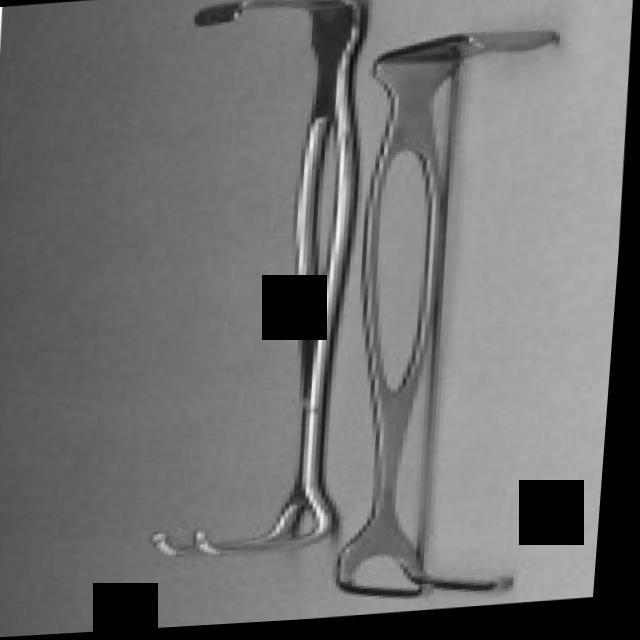Czerny Retractor: (144, 0, 382, 572), (342, 26, 560, 622)
